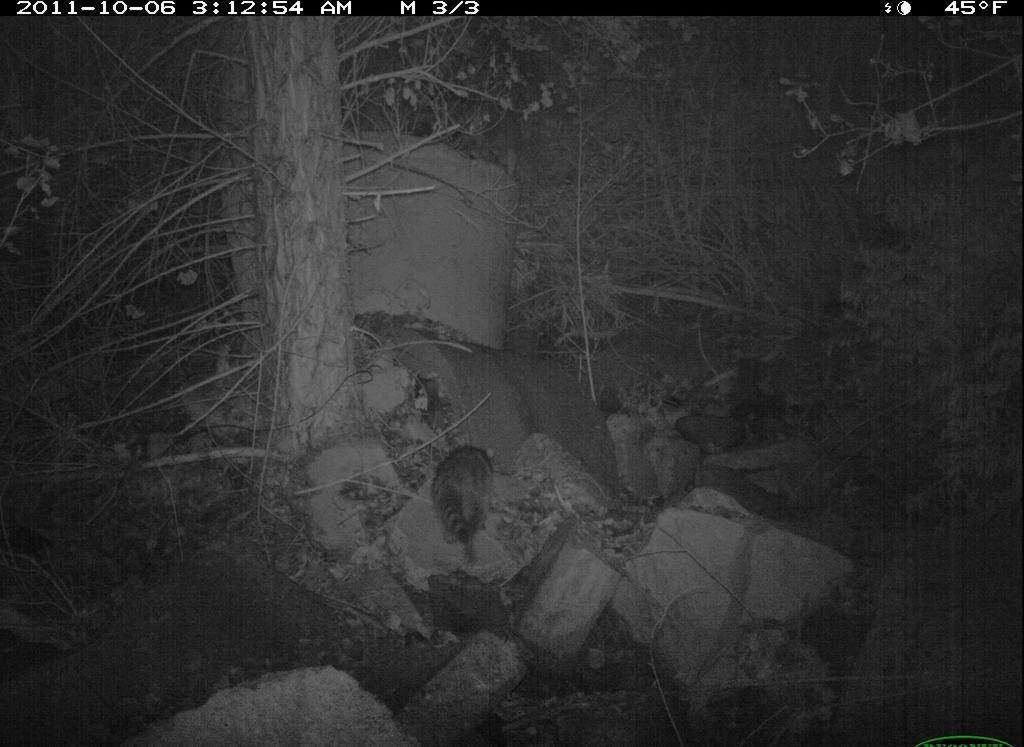raccoon: (426, 428, 506, 580)
